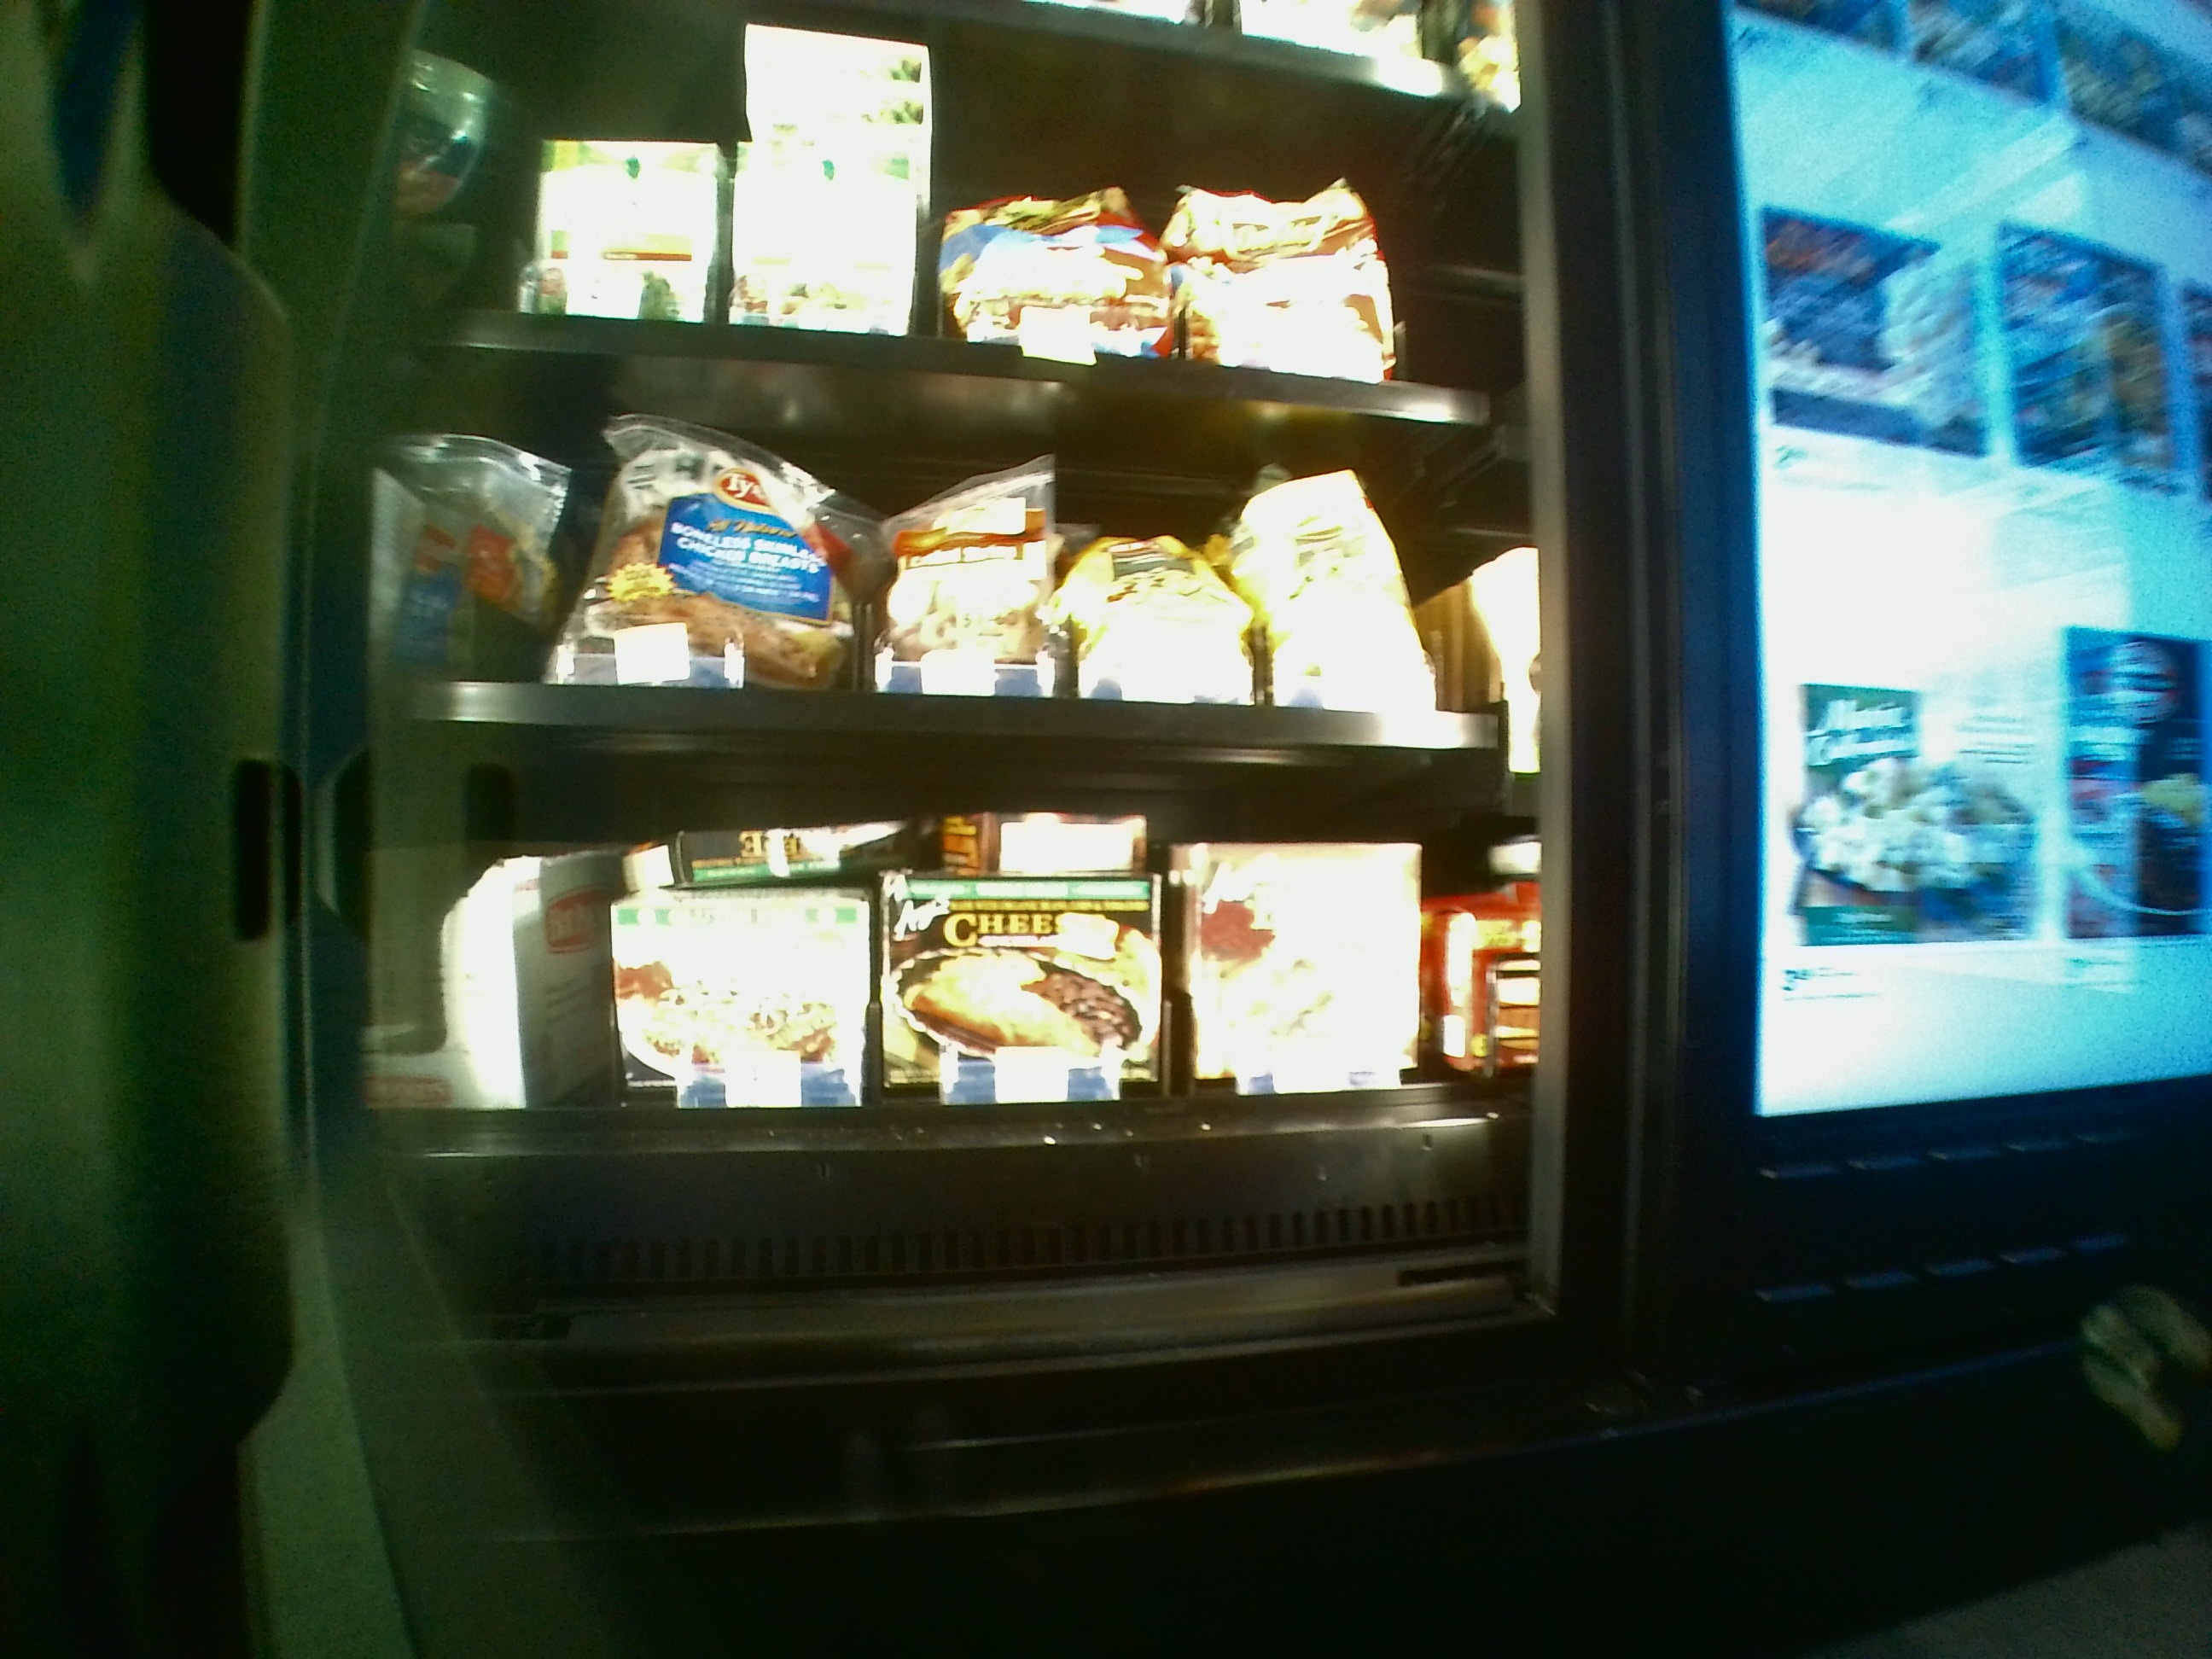shelf: (388, 769, 1526, 1291), (383, 347, 1521, 756)
